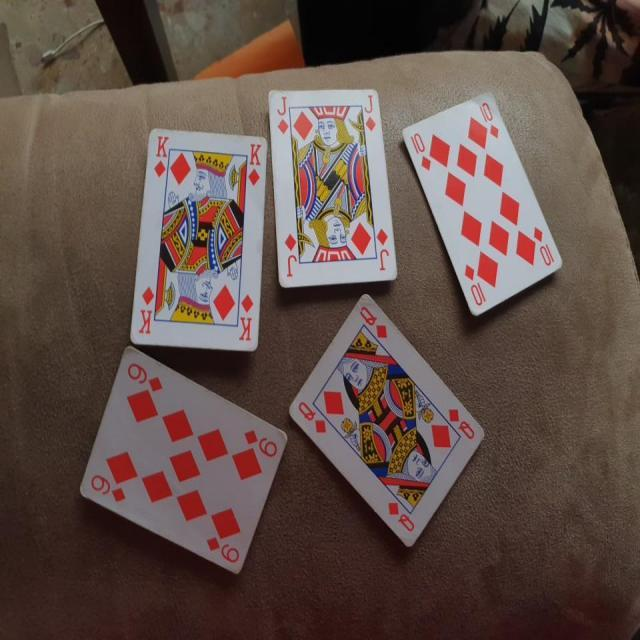10 of diamonds: (402, 89, 567, 316)
9 of diamonds: (78, 347, 288, 580)
jack of diamonds: (266, 85, 400, 290)
king of diamonds: (129, 127, 269, 353)
queen of diamonds: (288, 291, 486, 548)
